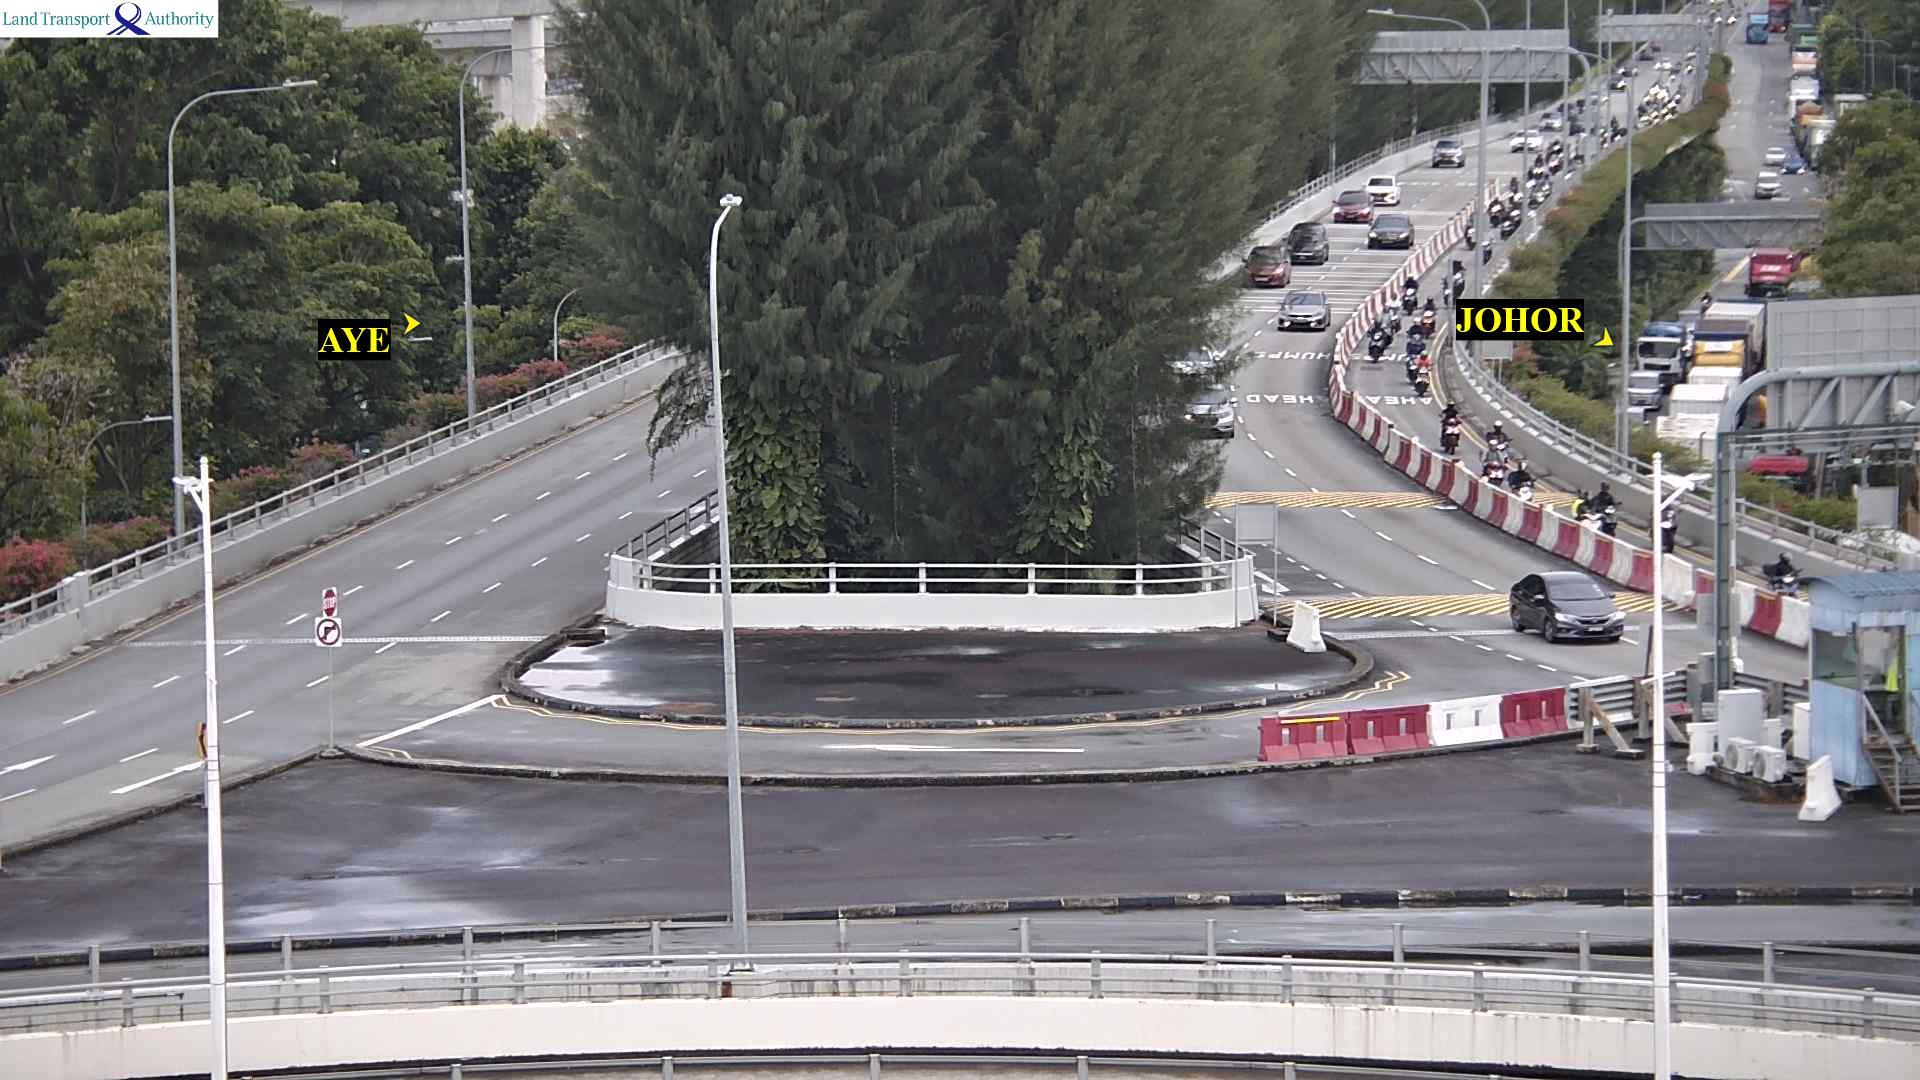vehicle-secondlink-johor: (1513, 572, 1663, 642), (1271, 293, 1332, 332), (1240, 251, 1291, 291), (1763, 553, 1811, 593), (1594, 483, 1630, 534), (1366, 214, 1418, 248), (1331, 191, 1382, 223), (1443, 404, 1469, 452), (1291, 225, 1327, 261), (1365, 178, 1406, 206), (1486, 423, 1515, 460), (1436, 144, 1469, 170), (1412, 351, 1429, 394), (1507, 133, 1544, 153), (1418, 297, 1435, 339), (1364, 320, 1382, 355), (1514, 464, 1532, 497), (1404, 277, 1420, 313), (1505, 203, 1520, 237), (1664, 508, 1677, 545), (1385, 295, 1396, 326), (1408, 327, 1423, 351), (1528, 154, 1542, 179), (1542, 113, 1561, 128), (1468, 214, 1477, 244), (1538, 179, 1551, 200), (1491, 198, 1502, 223), (1549, 148, 1563, 166)
